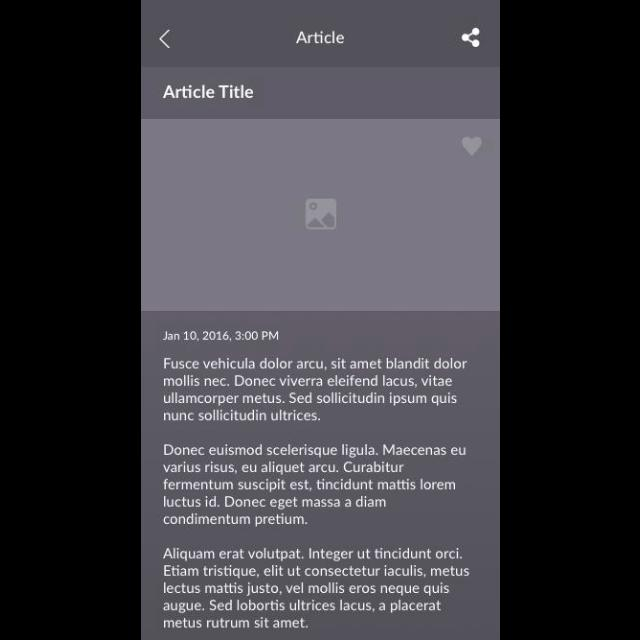icon: (461, 136, 483, 156), (460, 28, 480, 48), (160, 30, 170, 48)
image: (141, 120, 499, 310)
text: (162, 445, 466, 527), (163, 548, 469, 628), (163, 357, 467, 421), (162, 85, 254, 98), (164, 332, 278, 341), (296, 32, 344, 44)
toolbar: (141, 1, 499, 67)
